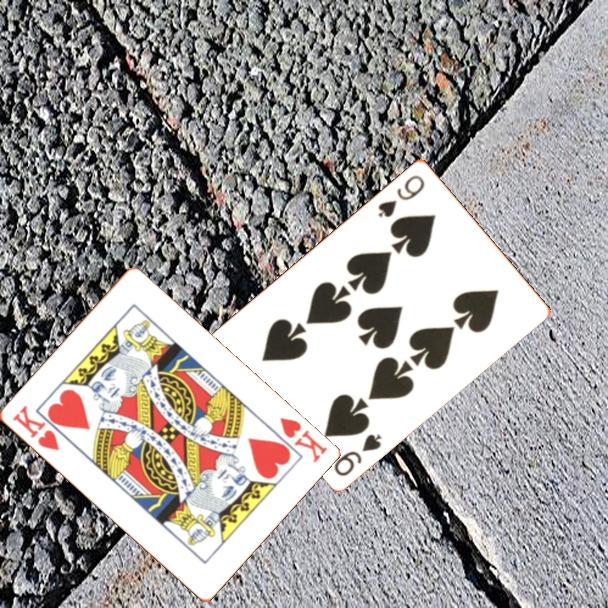h13: (8, 402, 62, 454), (276, 414, 330, 466)
s09: (330, 430, 385, 479), (374, 171, 428, 220)
